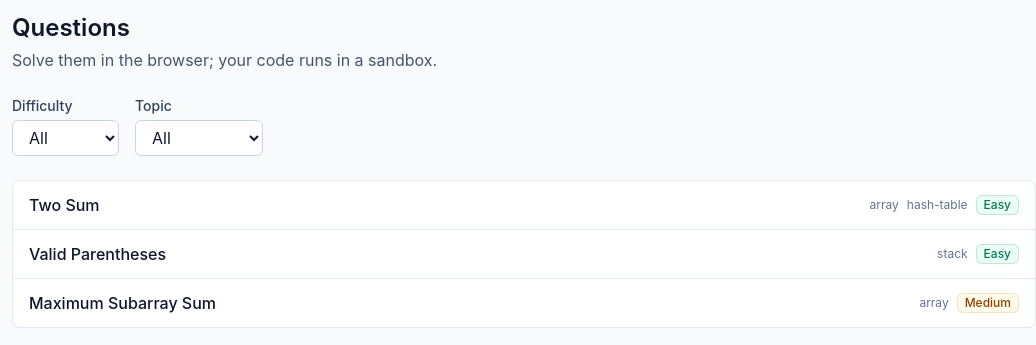
Test: QuestionsPage › filters by topic, offering only topics that exist
This screenshot has width=1036, height=345.
Expected: the link "Two Sum array hash-table Easy" is shown, [29,195,1019,215]
Select "stack" in the dropdown labelled "Topic" at (199, 138), box [135,120,263,156]
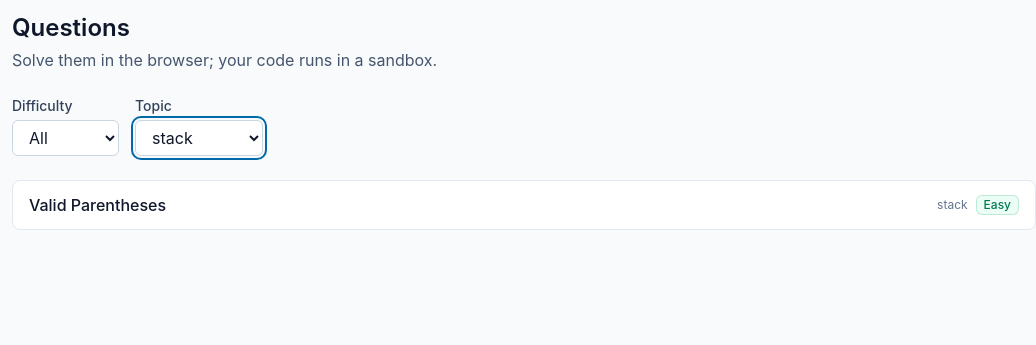
Expected: the link "Valid Parentheses stack Easy" is shown, [29,195,1019,215]
Result: the link "Two Sum" is gone
